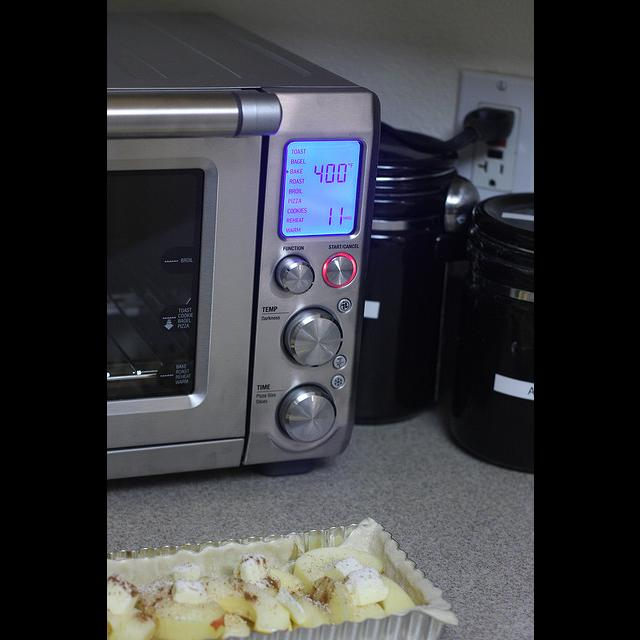Microwave: (108, 3, 380, 477)
